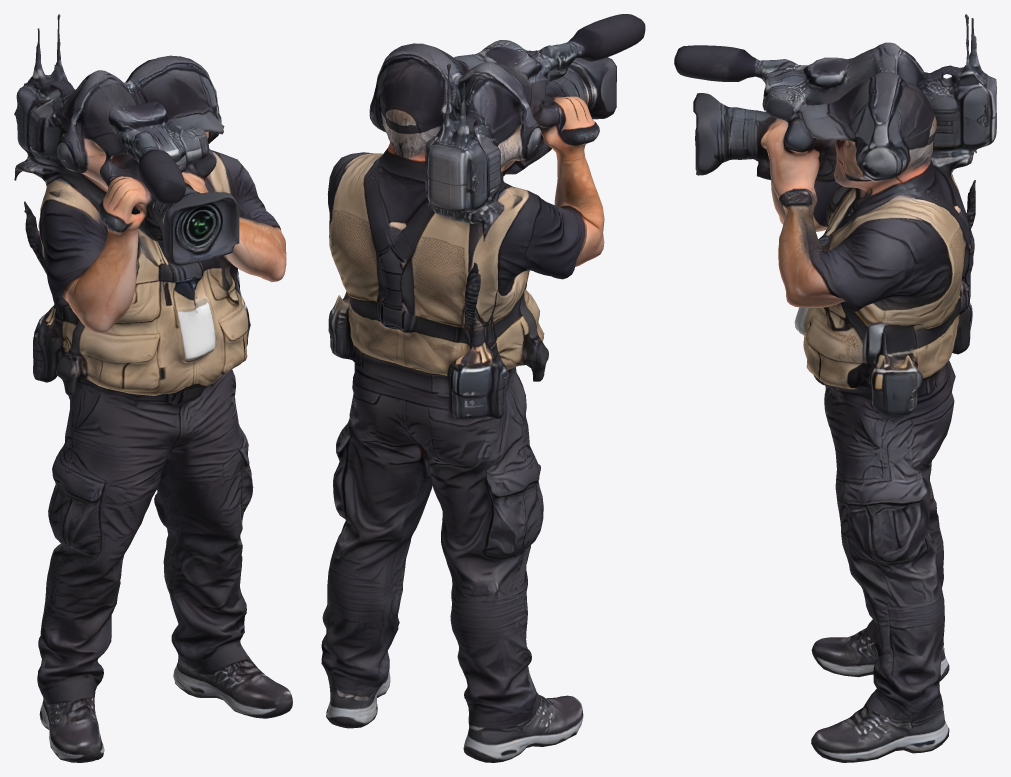
File: standing-cameraman.glb
The picture shows the model from 3 angles, left to right: view 1: azimuth 30°, elevation 25°; view 2: azimuth 150°, elevation 25°; view 3: azimuth 270°, elevation 25°; orthographic projection. The views are drawn at different scales.
Visible parts, largest first — view 1: model; view 2: model; view 3: model.
Boxes of the visible parts, left/top/right/bottom form: model: left=14, top=14, right=292, bottom=762; model: left=321, top=14, right=645, bottom=762; model: left=674, top=14, right=996, bottom=762.
Size of the model in its own units: 0.6631 by 1.9 by 0.8222.
1 material, 1 textured.
